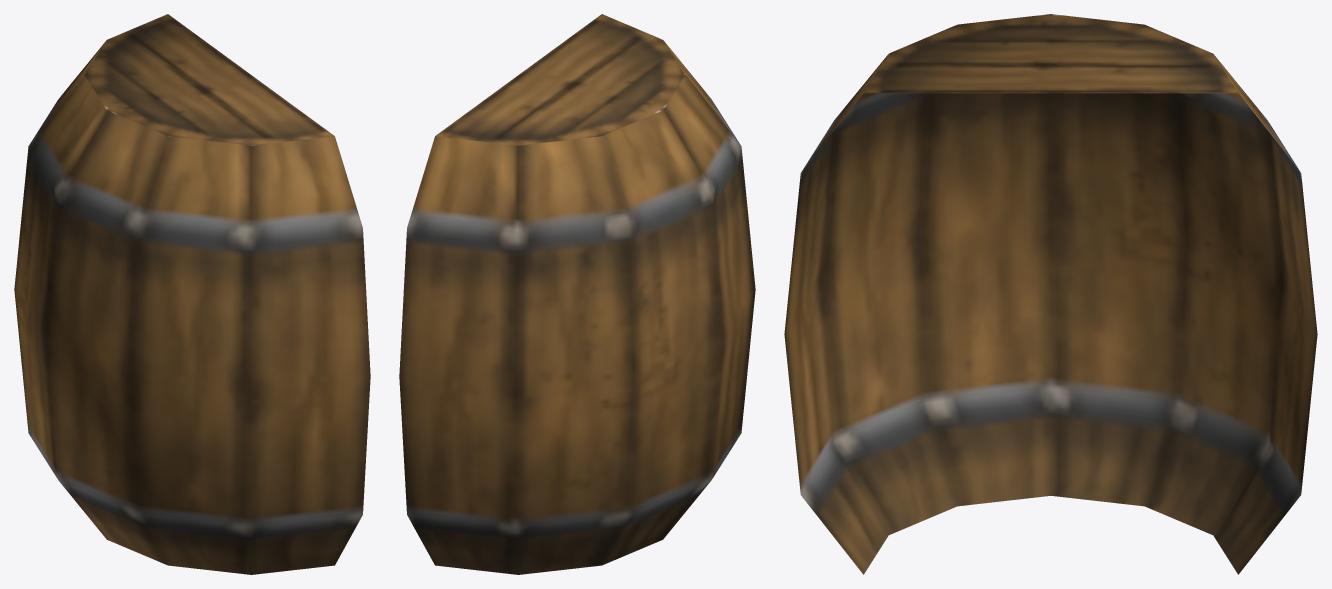
File: barrel.glb
The picture shows the model from 3 angles, left to right: view 1: azimuth 30°, elevation 25°; view 2: azimuth 150°, elevation 25°; view 3: azimuth 270°, elevation 25°; orthographic projection. The views are drawn at different scales.
Visible parts, largest first — view 1: Cylinder; view 2: Cylinder; view 3: Cylinder.
Boxes of the visible parts, x1=… form: Cylinder: x1=14, y1=14, x2=370, y2=574; Cylinder: x1=399, y1=14, x2=755, y2=574; Cylinder: x1=784, y1=14, x2=1317, y2=574.
Size of the model in its own units: 1.07 by 2.12 by 2.13.
Materials: 1 (1 with a texture image).
